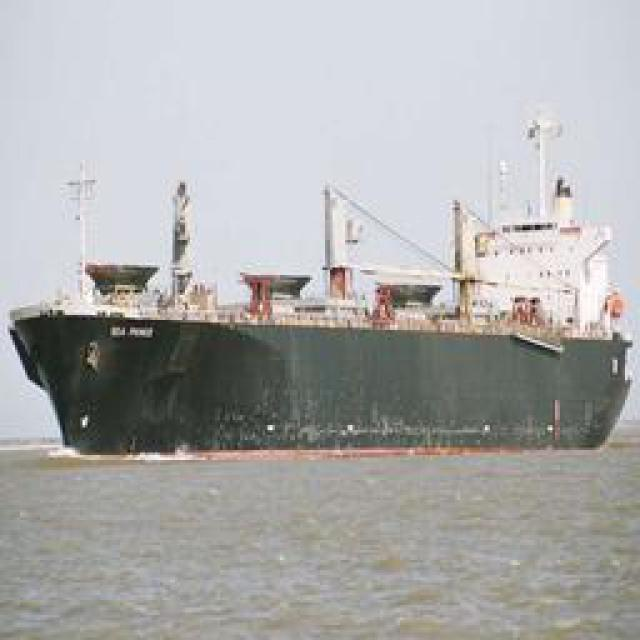Ship: (19, 145, 632, 460)
